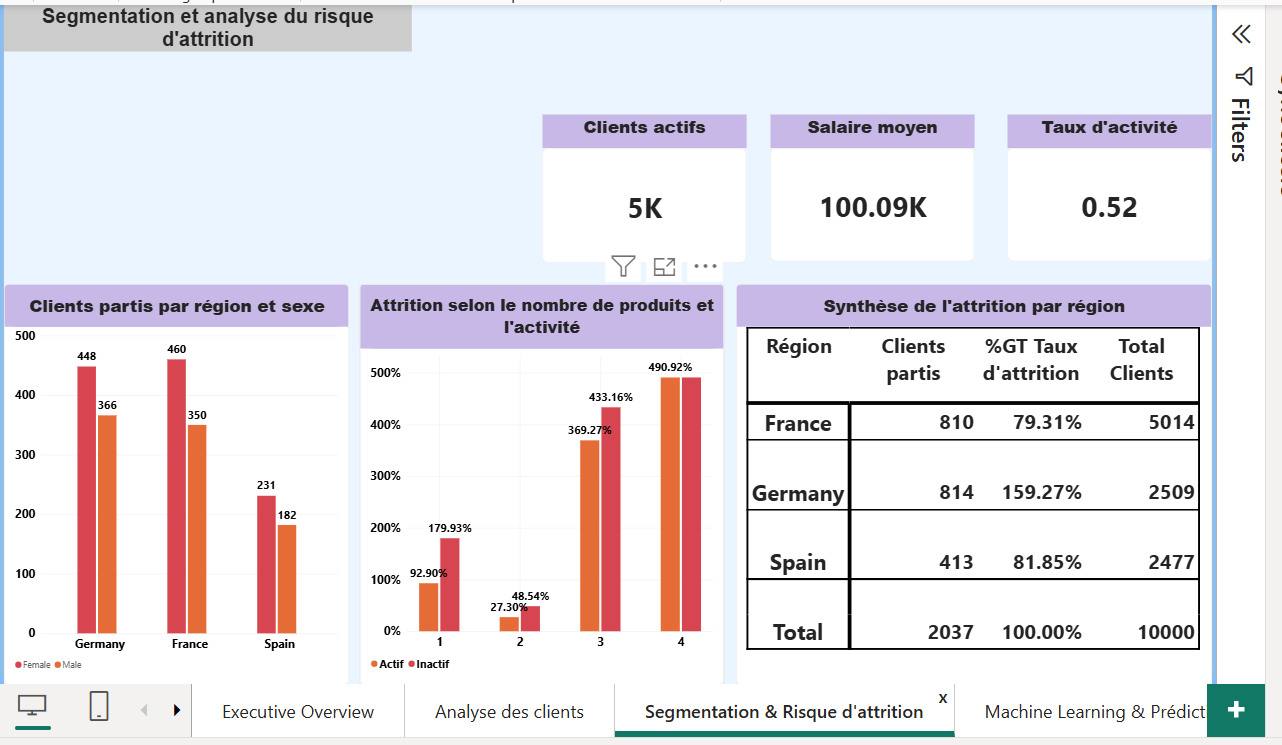

The page's visual inventory and layout, read from the dashboard file:
{"tool":"powerbi","page":{"name":"Segmentation & Risque d'attrition","canvas":[1920,1080],"ordinal":2},"visuals":[{"type":"cardVisual","title":"Clients actifs","fields":{"Data":["Bank Churn Modelling.Clients actifs"]},"box":[856.5,174.2,324.5,236.2],"z":0},{"type":"cardVisual","title":"Salaire moyen","fields":{"Data":["Bank Churn Modelling.Salaire moyen"]},"box":[1219.2,174.2,324.5,233.8],"z":1},{"type":"cardVisual","title":"Taux d''activité","fields":{"Data":["Bank Churn Modelling.Taux d'activité"]},"box":[1596.2,174.2,324.5,233.8],"z":2},{"type":"clusteredColumnChart","title":"Clients partis par région et sexe","fields":{"Category":["Bank Churn Modelling.Région"],"Series":["Bank Churn Modelling.Sexe"],"Y":["Bank Churn Modelling.Clients partis"]},"box":[0,443.8,548.8,637],"z":3},{"type":"clusteredColumnChart","title":"Attrition selon le nombre de produits et l''activité","fields":{"Category":["Bank Churn Modelling.Nombre de produits"],"Series":["Bank Churn Modelling.Statut activité"],"Y":["Bank Churn Modelling.Taux d'attrition"]},"box":[565.5,443.8,579.8,637],"z":4},{"type":"pivotTable","title":"Synthèse de l''attrition par région","fields":{"Rows":["Bank Churn Modelling.Région"],"Values":["Bank Churn Modelling.Clients partis","Bank Churn Modelling.Taux d'attrition","Bank Churn Modelling.Total Clients"]},"box":[1164.3,443.8,756.3,637],"z":5},{"type":"textbox","box":[0,0,649,74],"z":6}]}

Visuals, with their boxes on the page's 1920x1080 design canvas (x1, y1, x2, y2). These are canvas units, not pixel positions in the 1282x745 screenshot, which may show the page scaled, cropped or inside an application window:
"Clients actifs" cardVisual: select_region(856, 174, 1181, 410)
"Salaire moyen" cardVisual: select_region(1219, 174, 1544, 408)
"Taux d''activité" cardVisual: select_region(1596, 174, 1921, 408)
"Clients partis par région et sexe" clusteredColumnChart: select_region(0, 444, 549, 1081)
"Attrition selon le nombre de produits et l''activité" clusteredColumnChart: select_region(566, 444, 1145, 1081)
"Synthèse de l''attrition par région" pivotTable: select_region(1164, 444, 1921, 1081)
textbox: select_region(0, 0, 649, 74)
